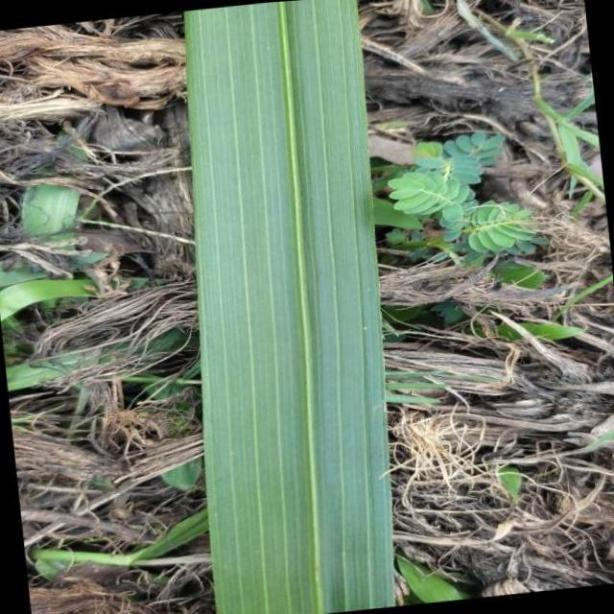Healthy: (186, 0, 396, 614)
